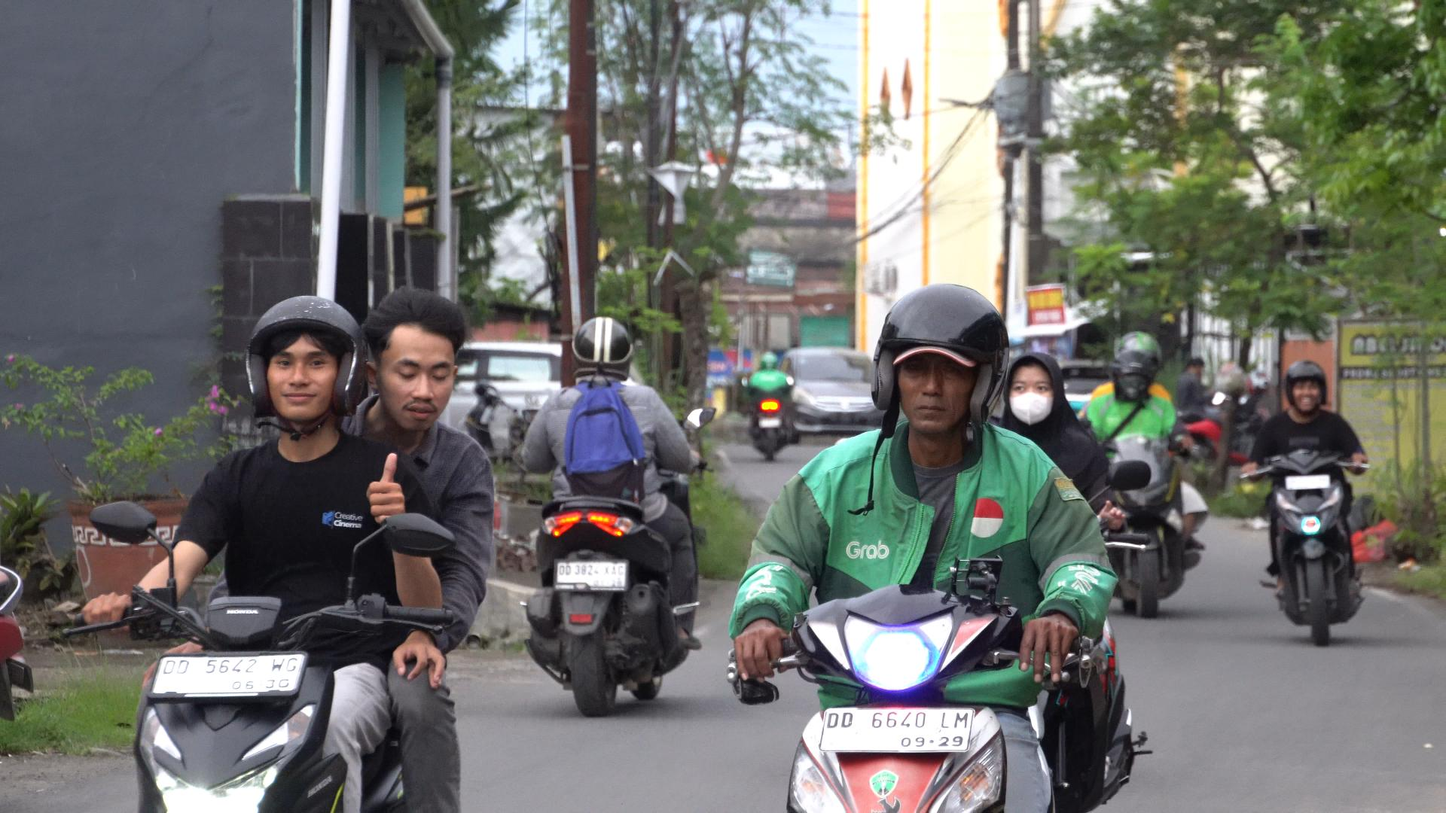number-plate: (821, 702, 971, 756), (148, 654, 310, 703)
